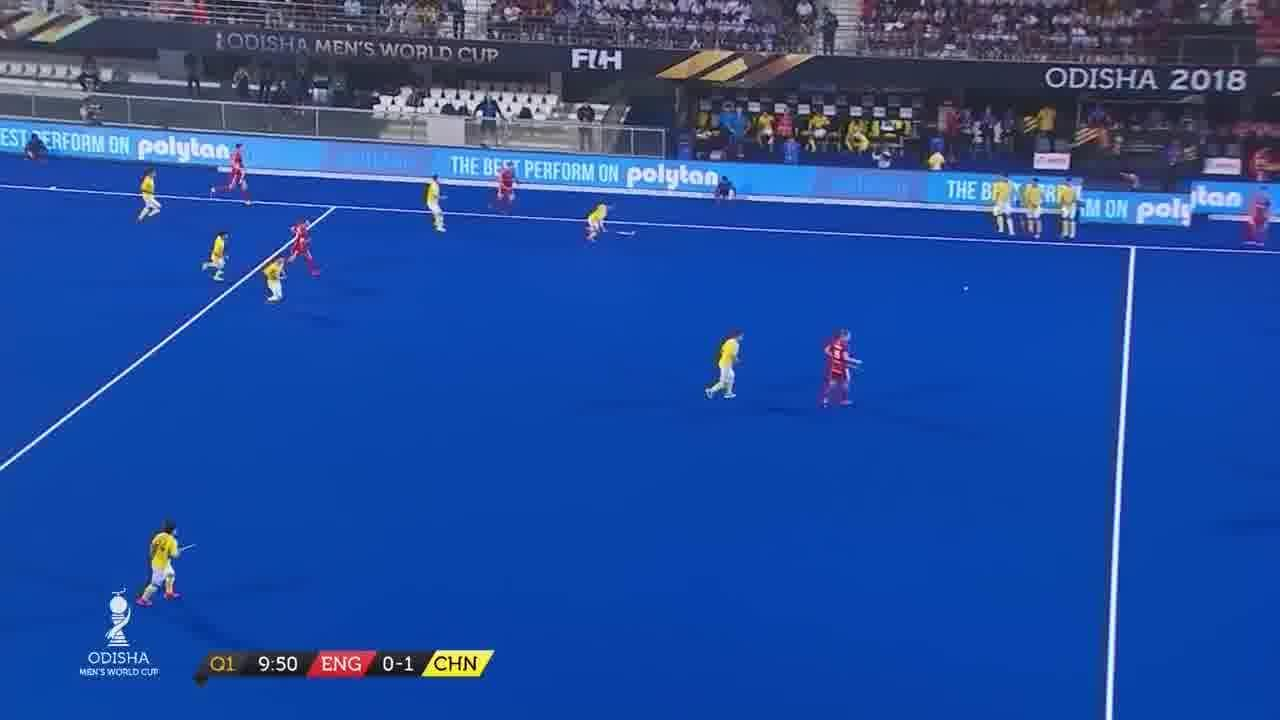ball: (961, 283, 972, 292)
